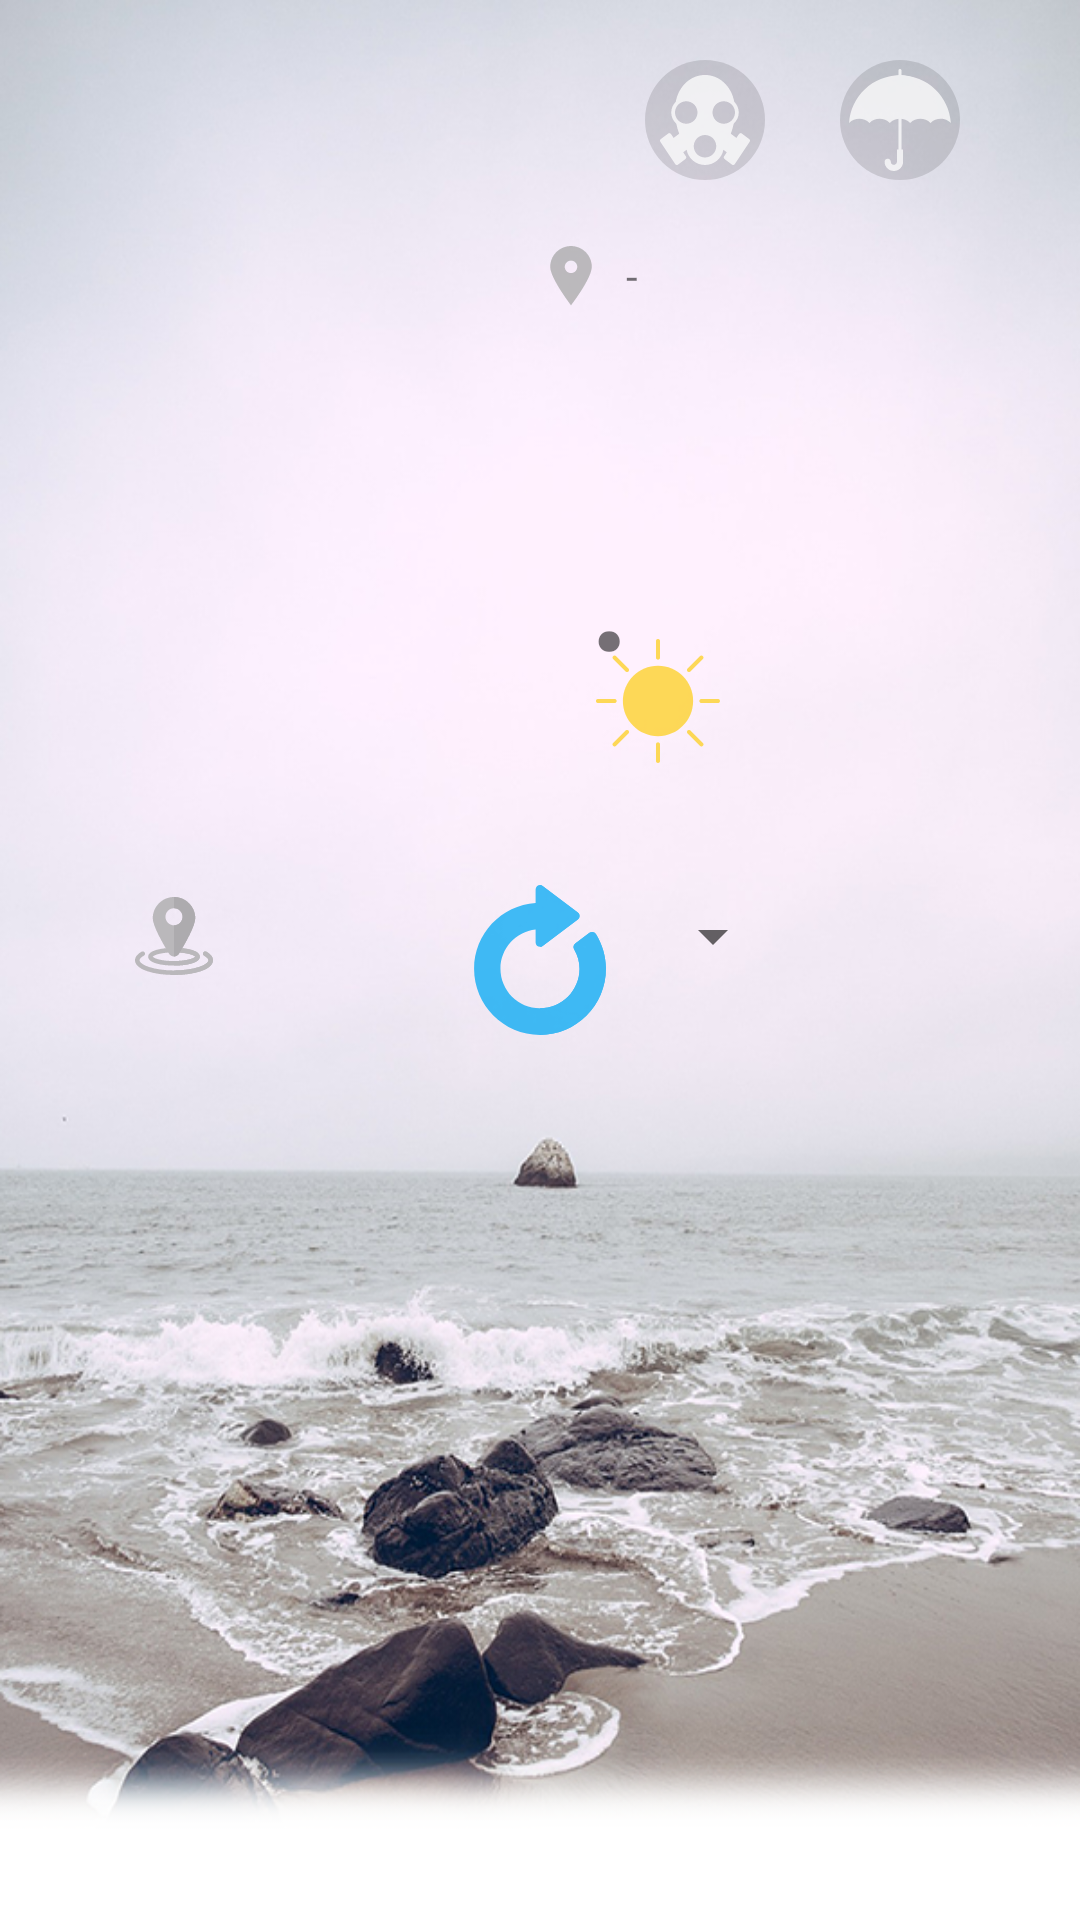

Locate icon controls on the screen. Image size 1080w x 1920h, boxes as (left=x1, top=y1, right=x2, bottom=y2).
forecast: (left=840, top=60, right=960, bottom=180)
Loading Image: (left=474, top=885, right=606, bottom=1035)
sun: (left=596, top=631, right=720, bottom=763)
